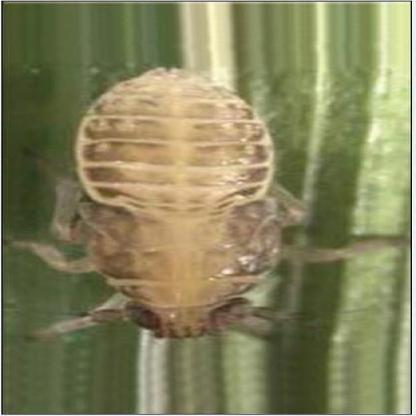brown-planthopper: (69, 65, 292, 339)
